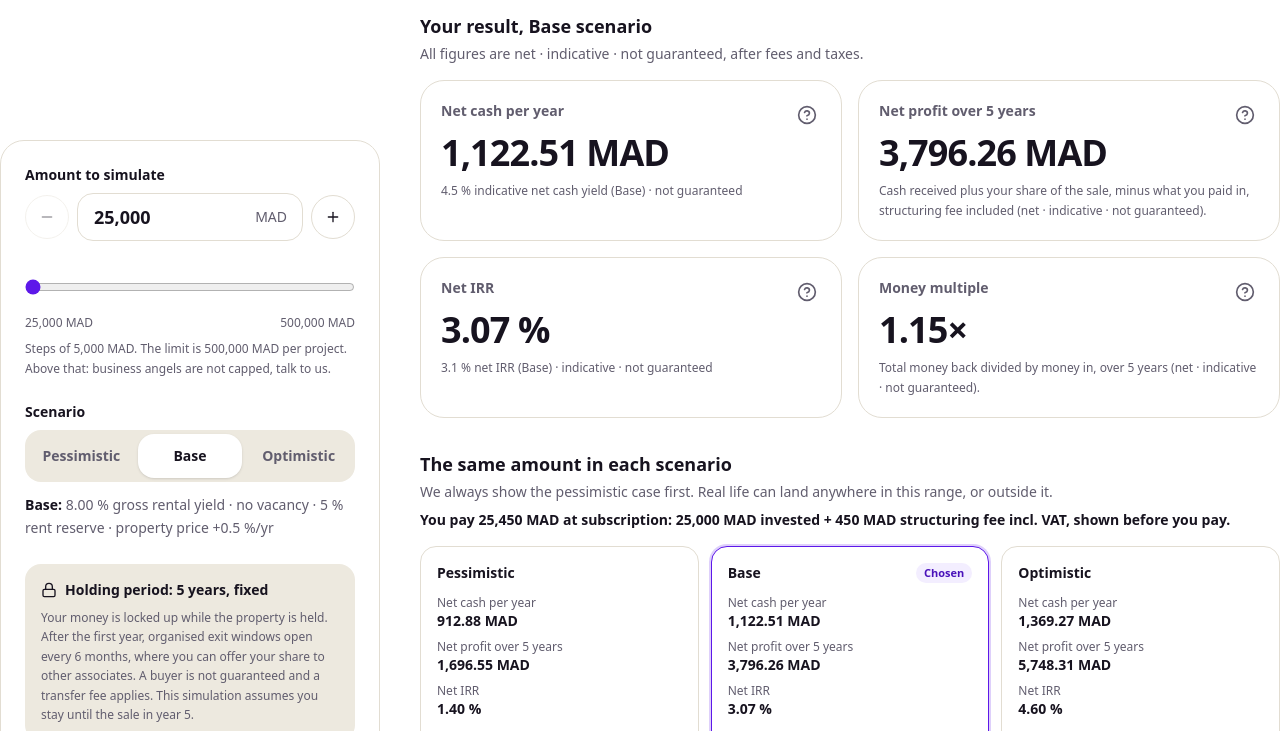
Test case: Simulator › notes that business angels are not capped above 500,000
This screenshot has width=1280, height=731.
Replace the text in the field labelled "Amount to simulate" with "750000" at (190, 217), box [77,193,303,241]
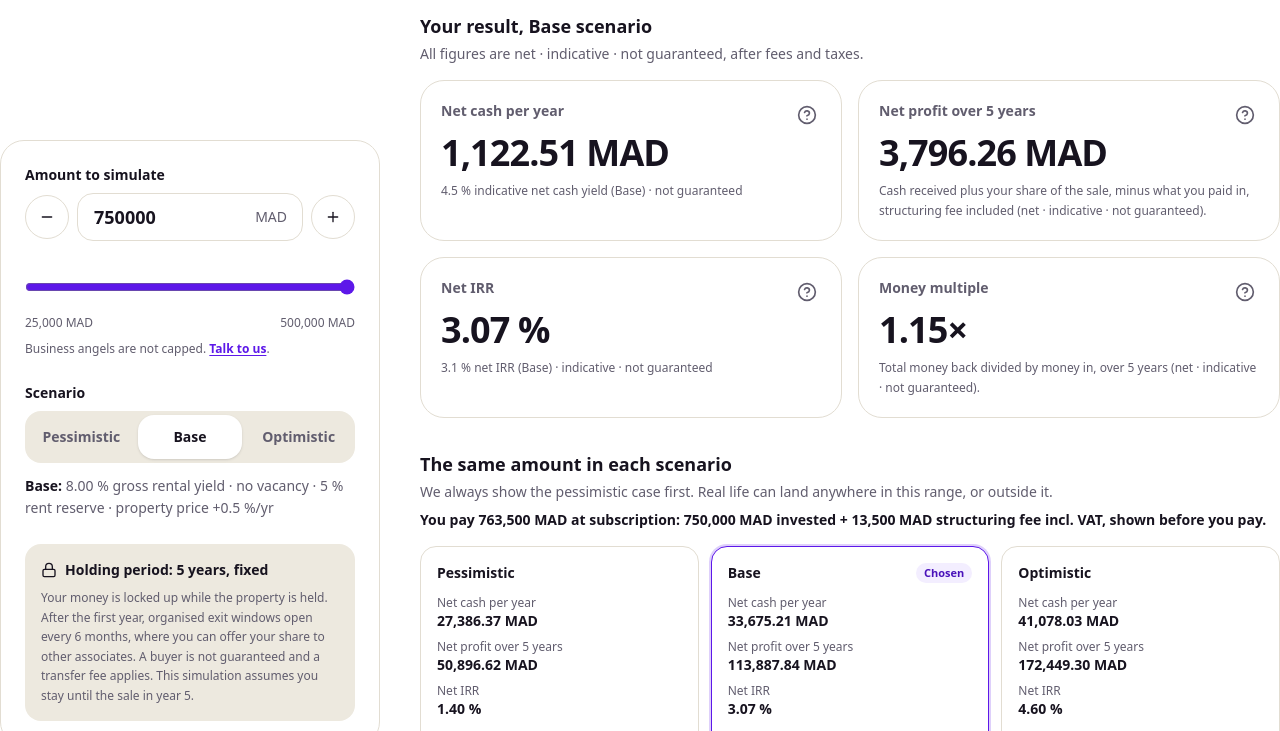
Leave the field labelled "Amount to simulate", box [77,193,303,241]
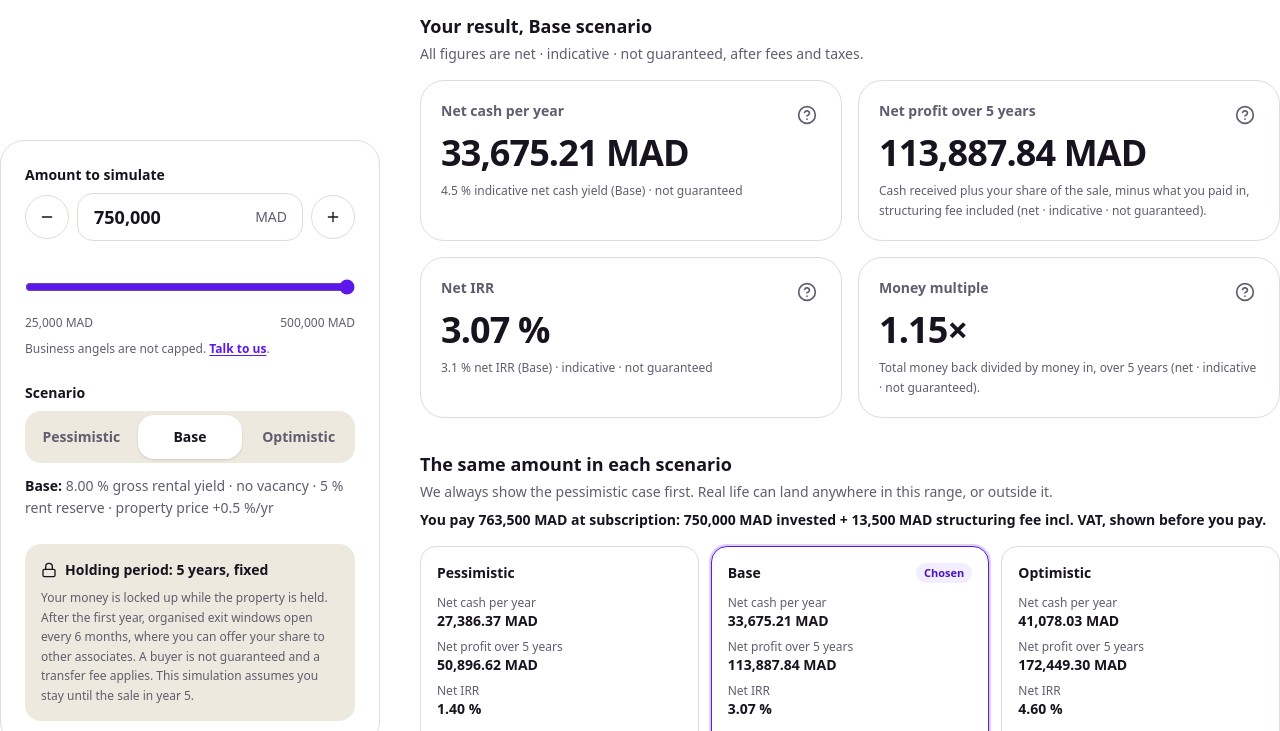
Expected: the text "Business angels are not capped. Talk to us ." is shown, [25,340,270,357]
Expected: the field labelled "Amount to simulate" holds "750,000", [77,193,303,241]
